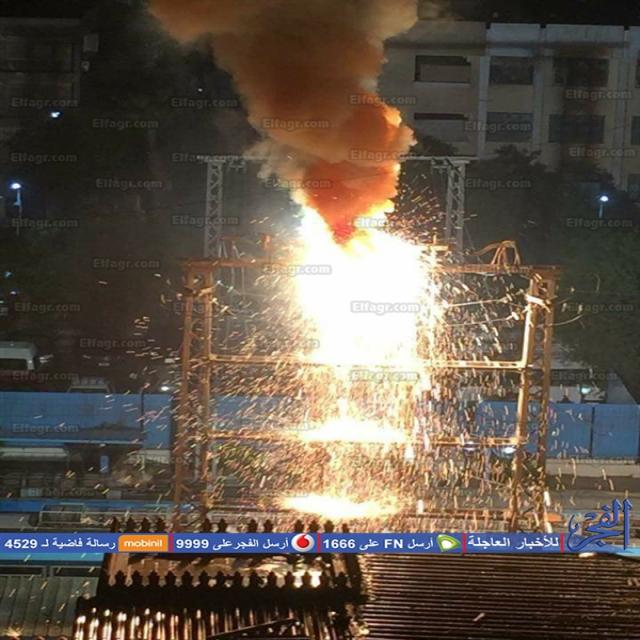Fire: (199, 172, 470, 546)
Smoke: (136, 2, 435, 202)
